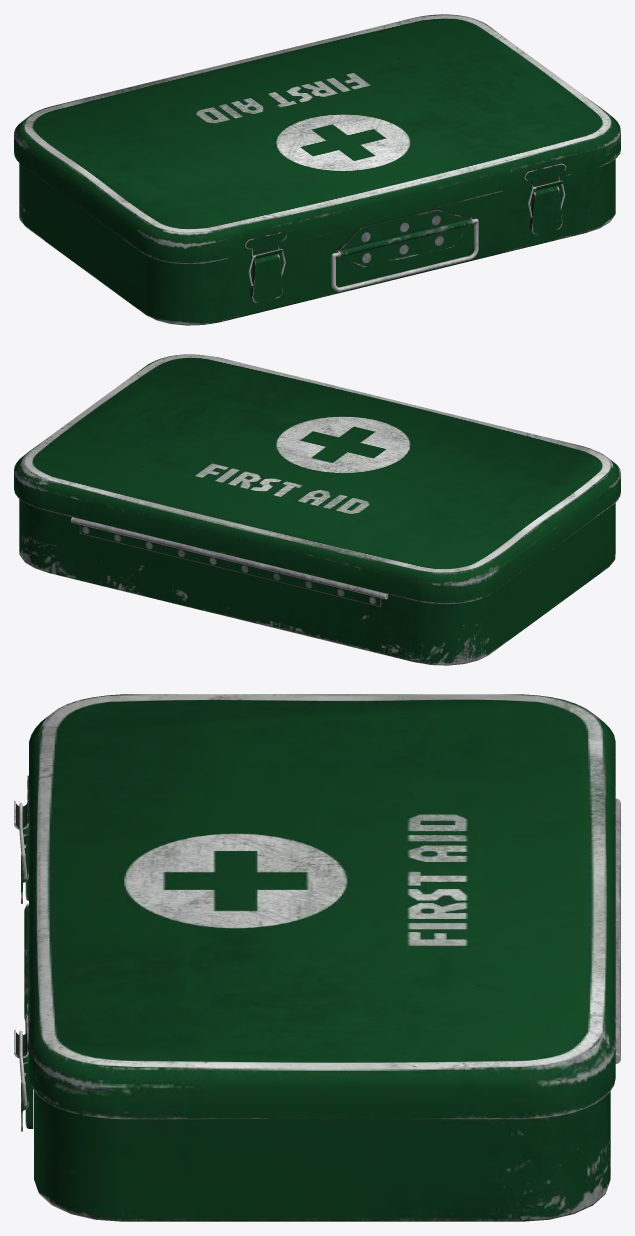
File: ph-medical-box.glb
3 views of the same model, one above another, from view 1: azimuth 30°, elevation 25°; view 2: azimuth 150°, elevation 25°; view 3: azimuth 270°, elevation 25° (orthographic). The views are drawn at different scales.
Visible parts, largest first — view 1: medical_box_latch; view 2: medical_box_latch; view 3: medical_box_latch.
Boxes of the visible parts, left/top/right/bottom form: medical_box_latch: left=14, top=14, right=620, bottom=325; medical_box_latch: left=14, top=354, right=620, bottom=665; medical_box_latch: left=14, top=694, right=620, bottom=1221.
Size of the model in its own units: 0.5255 by 0.0975 by 0.3501.
1 material, 1 textured.
